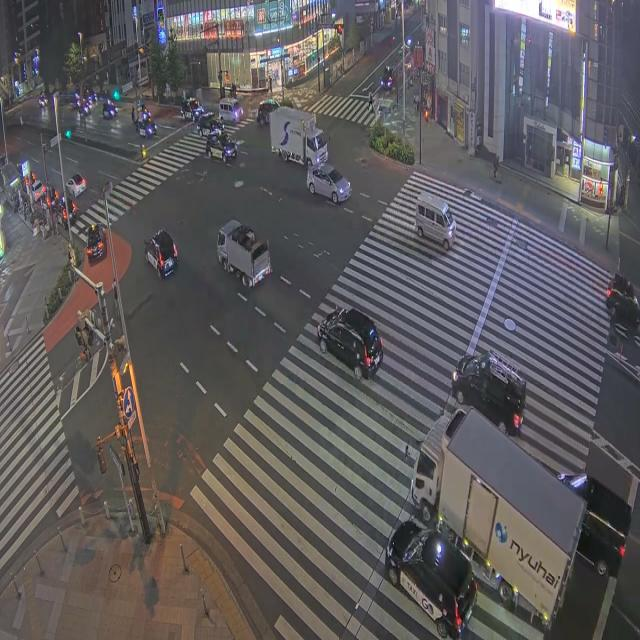car: (386, 520, 477, 638), (558, 473, 631, 577), (452, 351, 526, 435), (317, 309, 383, 380), (307, 164, 351, 204), (145, 230, 177, 277), (606, 273, 634, 311), (206, 132, 237, 163), (610, 296, 639, 329), (52, 199, 77, 229), (86, 224, 106, 261), (198, 112, 223, 136), (256, 99, 279, 124), (181, 98, 202, 120), (66, 174, 86, 197), (136, 117, 156, 137), (380, 66, 394, 90), (32, 180, 46, 202), (103, 100, 117, 119), (139, 104, 151, 120), (84, 90, 97, 104), (78, 102, 90, 115), (39, 94, 48, 108)
truck: (411, 408, 585, 626), (217, 221, 270, 287), (270, 107, 327, 167), (1, 163, 20, 199)
van: (415, 192, 456, 250), (219, 99, 242, 123)
